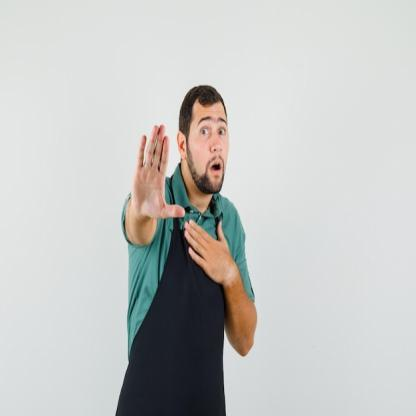stop: (130, 120, 188, 225)
